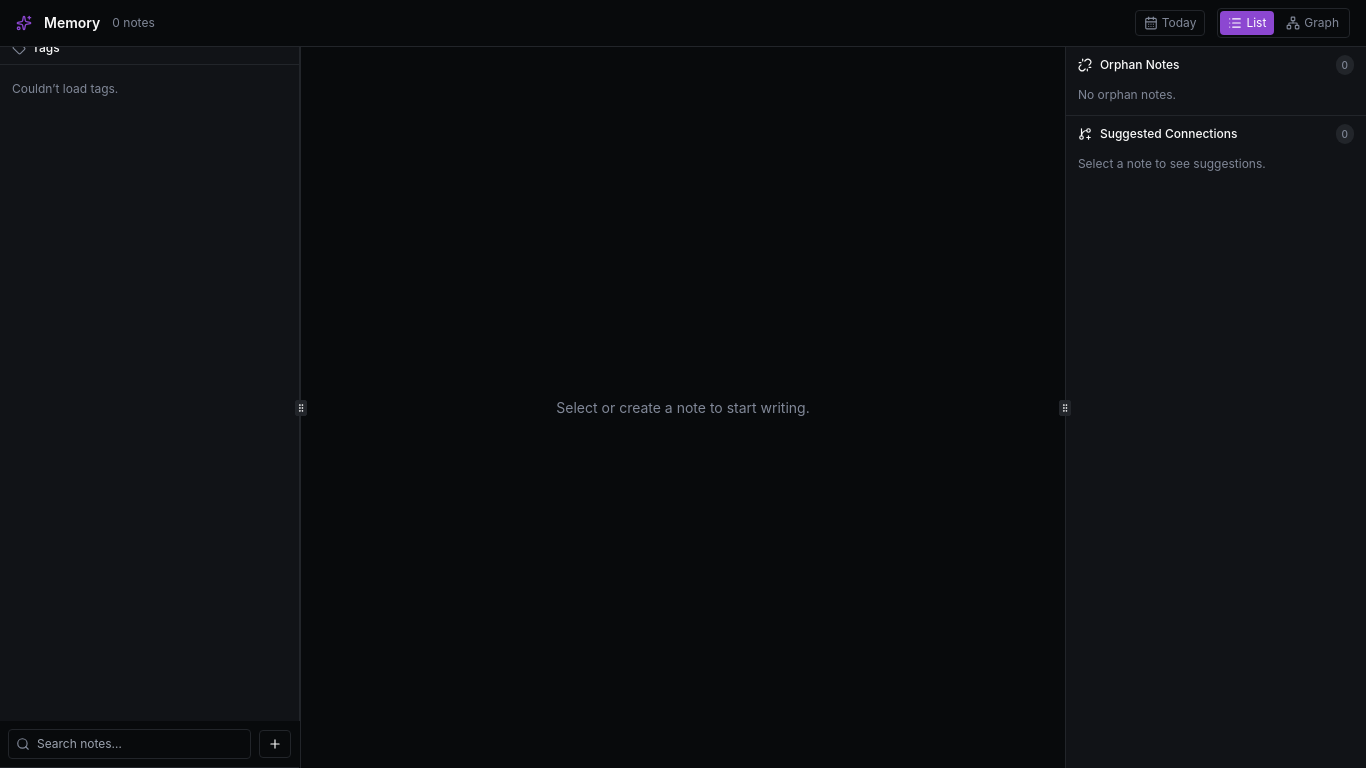
Test: MemoryRoom — Stage-4 UX › ErrorBanner can be dismissed
The width and height of the screenshot is (1366, 768).
(page scrolled)
Step 1. Click the button named "create note" → {"x": 275, "y": 744}, box [259,730,291,758]
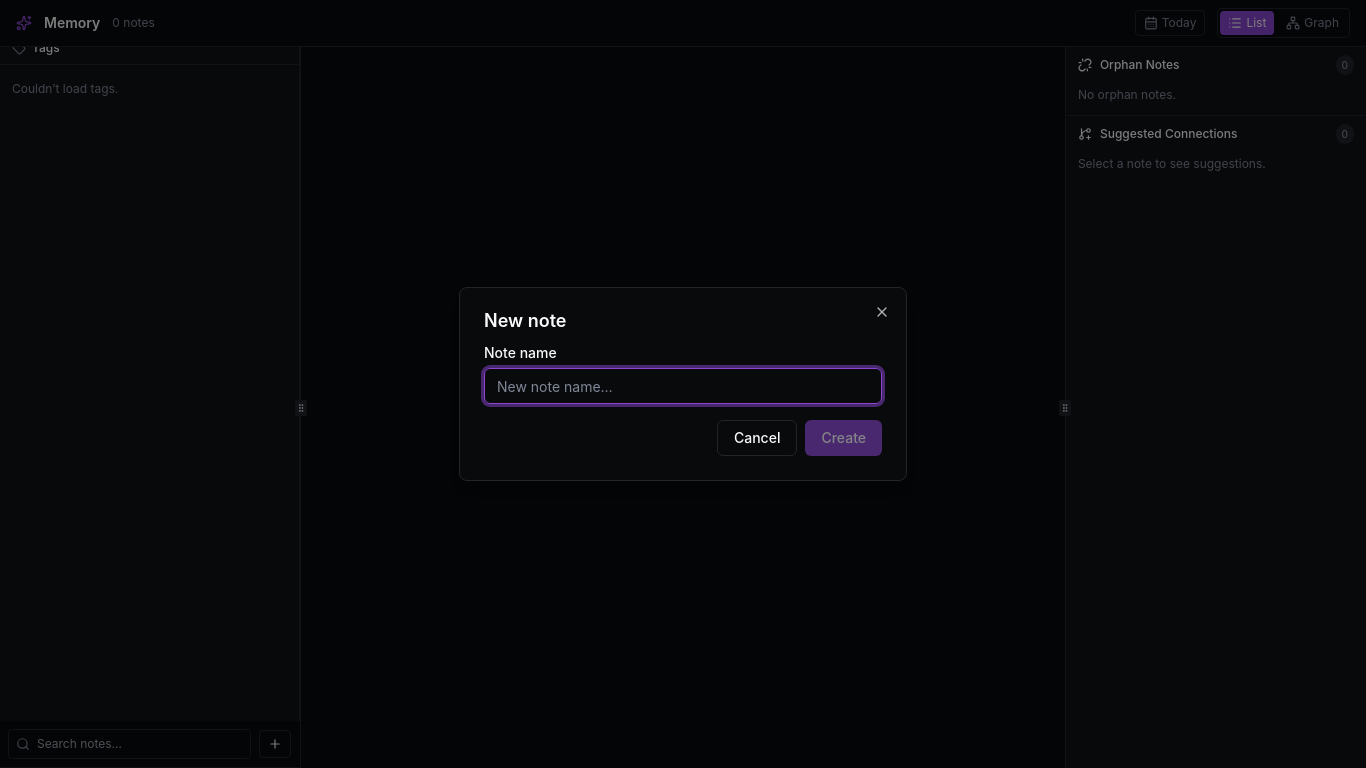
Step 2. Type "my-note" into the field → {"x": 683, "y": 386}, box [484,368,882,404]
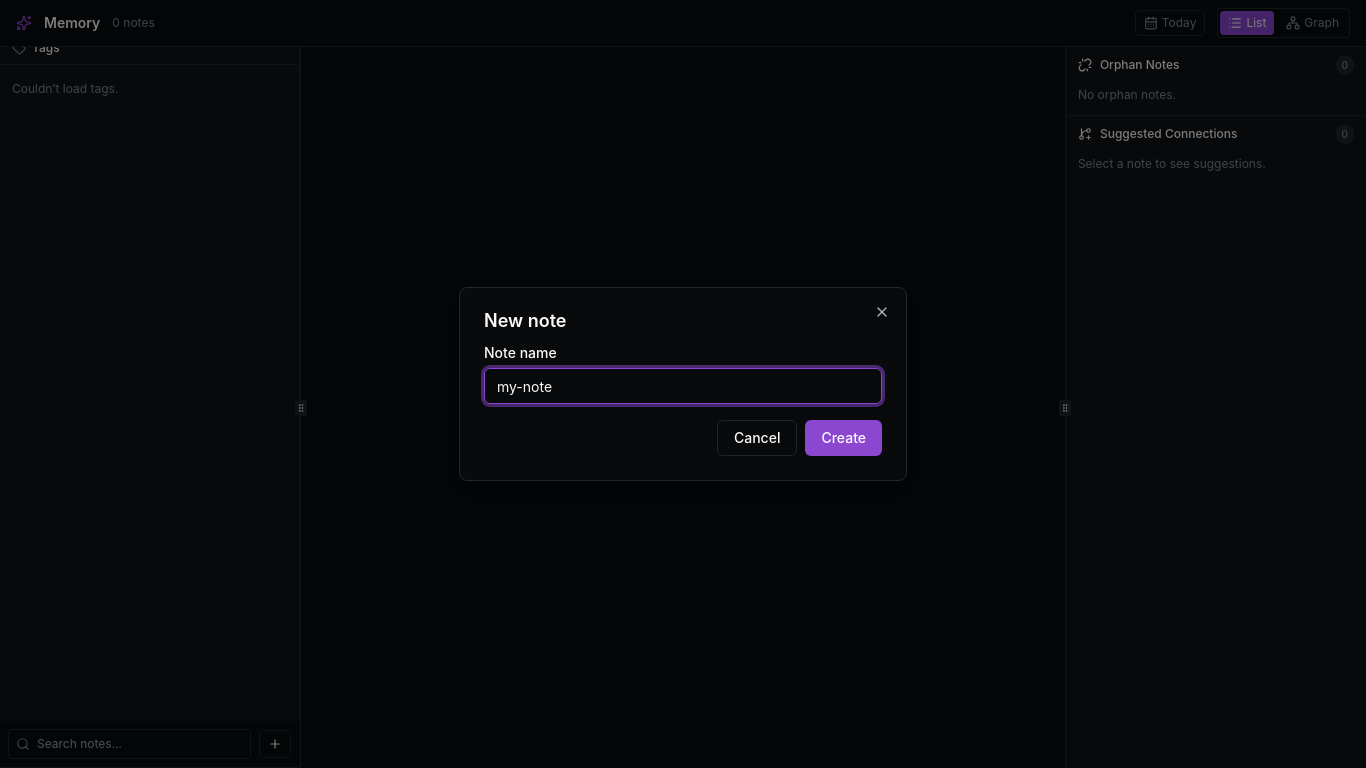
Step 3. Click the button "Create" → {"x": 844, "y": 438}, box [805,420,882,456]
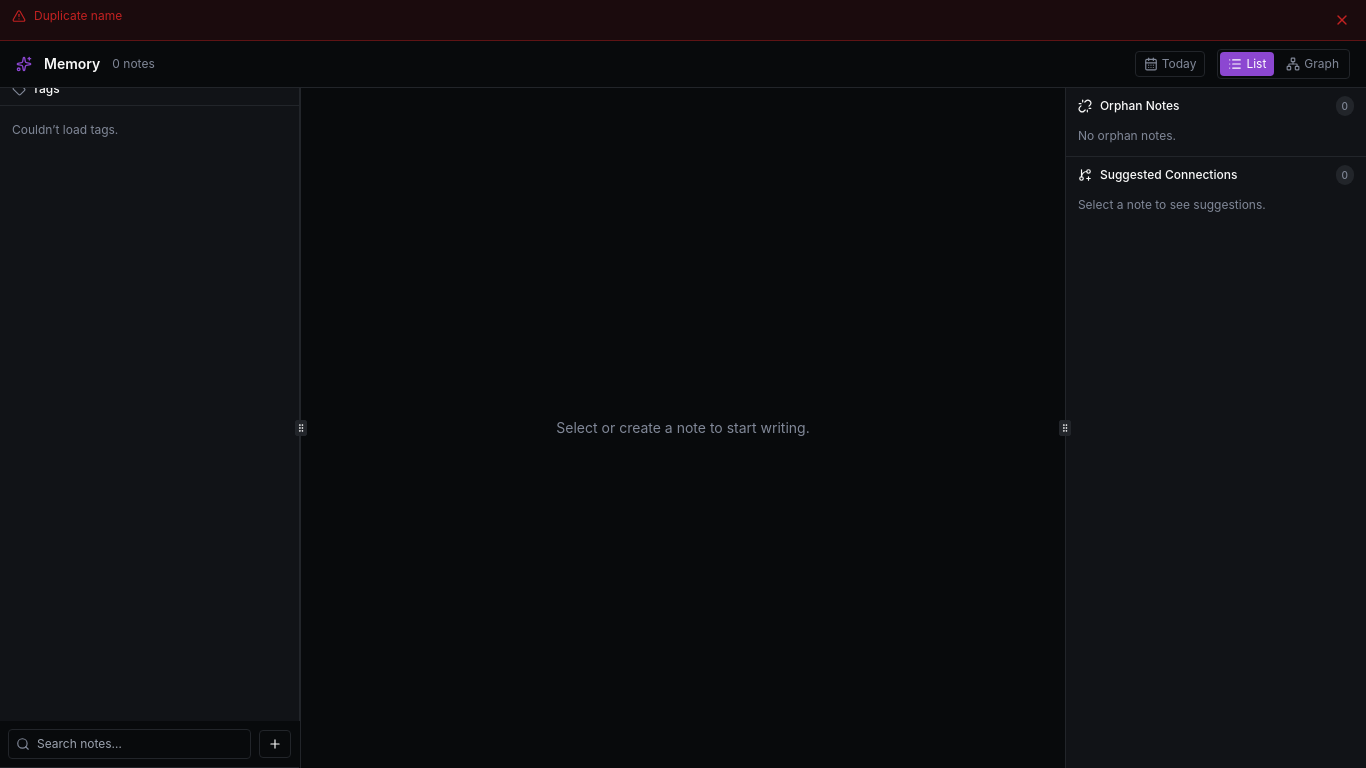
Expected: the message "Duplicate name" is shown, [0,0,1365,41]
Step 4. Click the button named "dismiss" → {"x": 1342, "y": 20}, box [1330,8,1354,32]
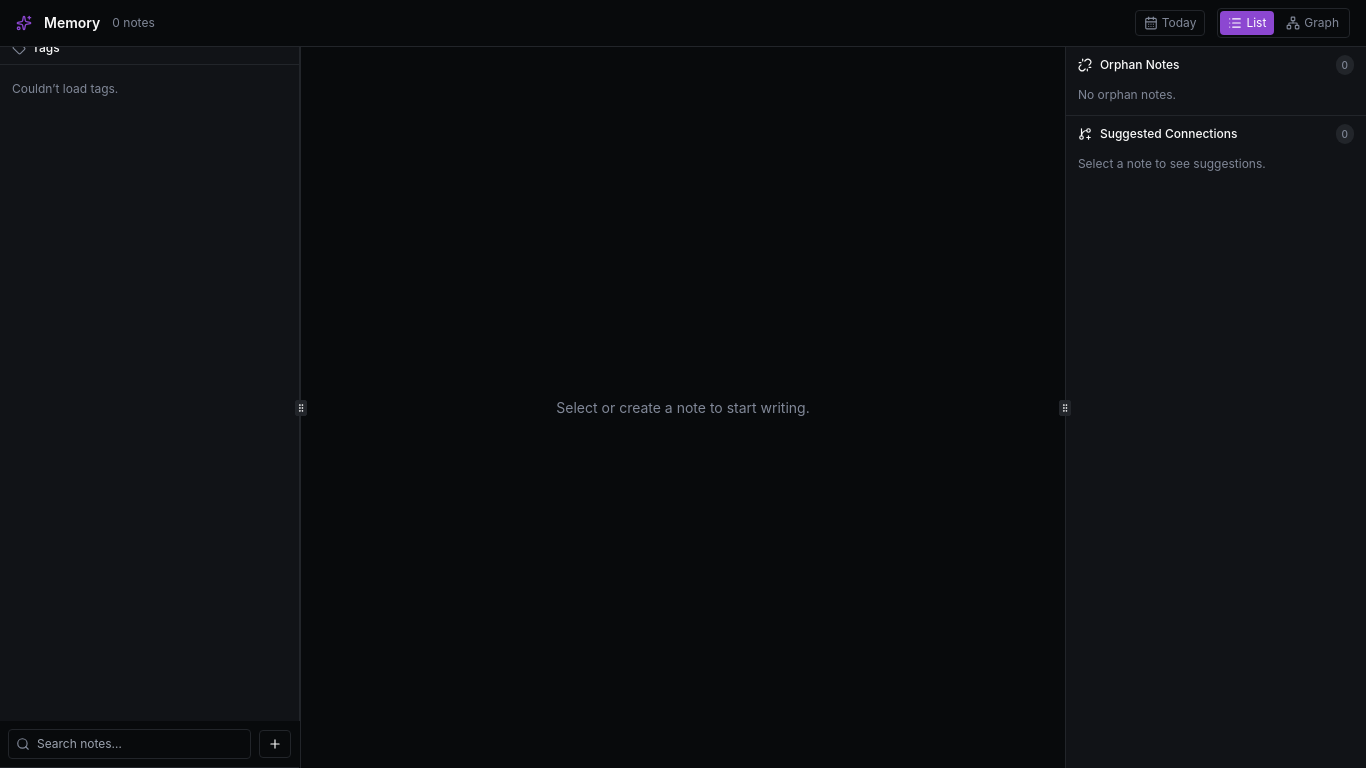
Expected: the message "Duplicate name" is gone
